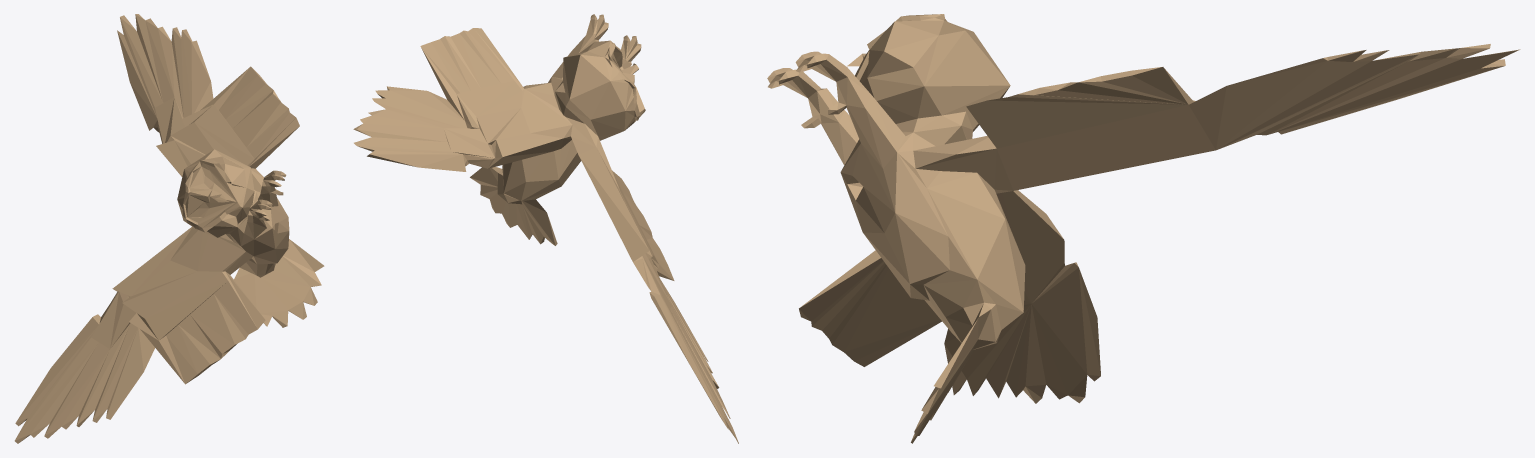
The model's file is night_owls_owl_lod1.glb.
3 views of the same model, side by side, from view 1: azimuth 30°, elevation 25°; view 2: azimuth 150°, elevation 25°; view 3: azimuth 270°, elevation 25° (orthographic). The views are drawn at different scales.
Visible parts, largest first — view 1: Owl; view 2: Owl; view 3: Owl.
Boxes of the visible parts, x1,y1,x2,y2 form: Owl: (14,14,324,443); Owl: (353,14,738,443); Owl: (767,14,1520,443).
Size of the model in its own units: 0.1698 by 0.1802 by 0.2124.
